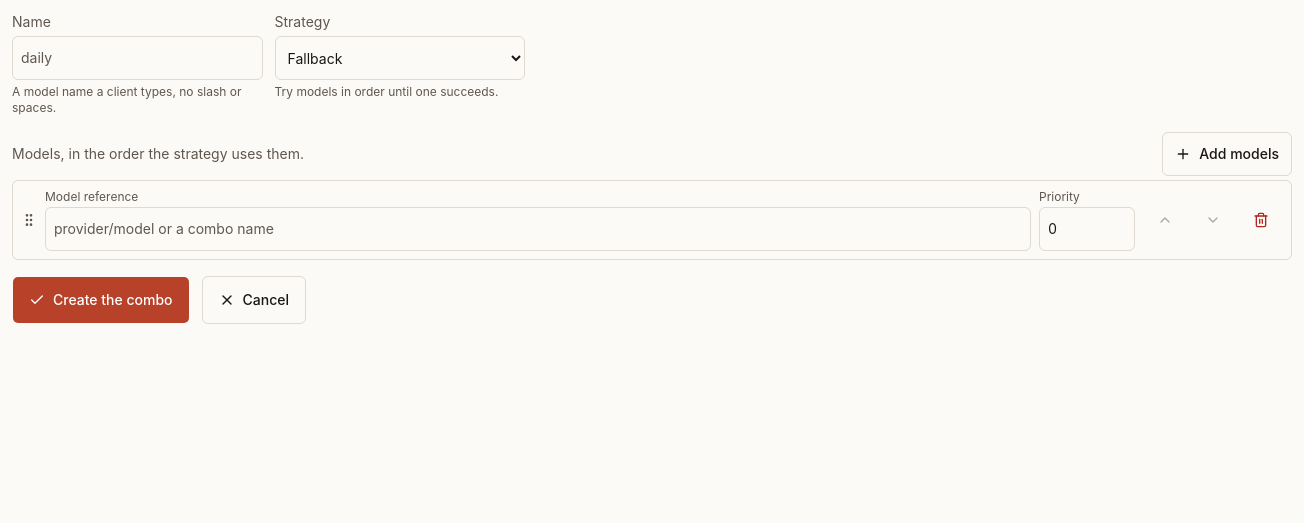
Test: ComboEditor strategy fields › refuses a round_robin combo with a sticky limit of zero and sends nothing
The image size is (1304, 523).
Type "mixed" into the field labelled "Name" at (137, 58), box [12,36,262,80]
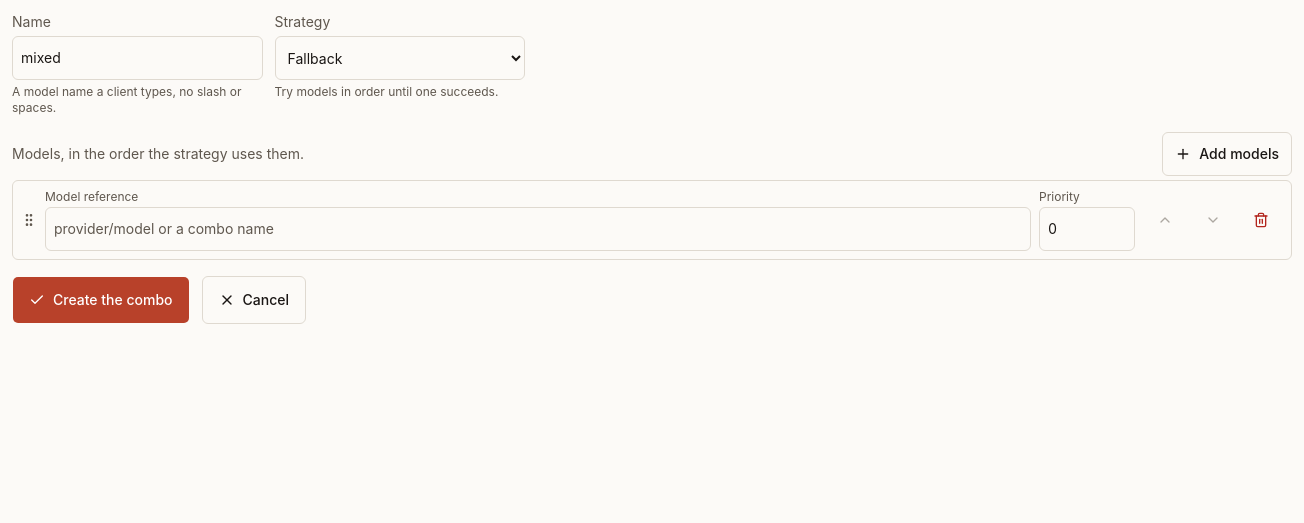
Select "Round robin" in the dropdown labelled "Strategy" at (400, 58), box [274,36,525,80]
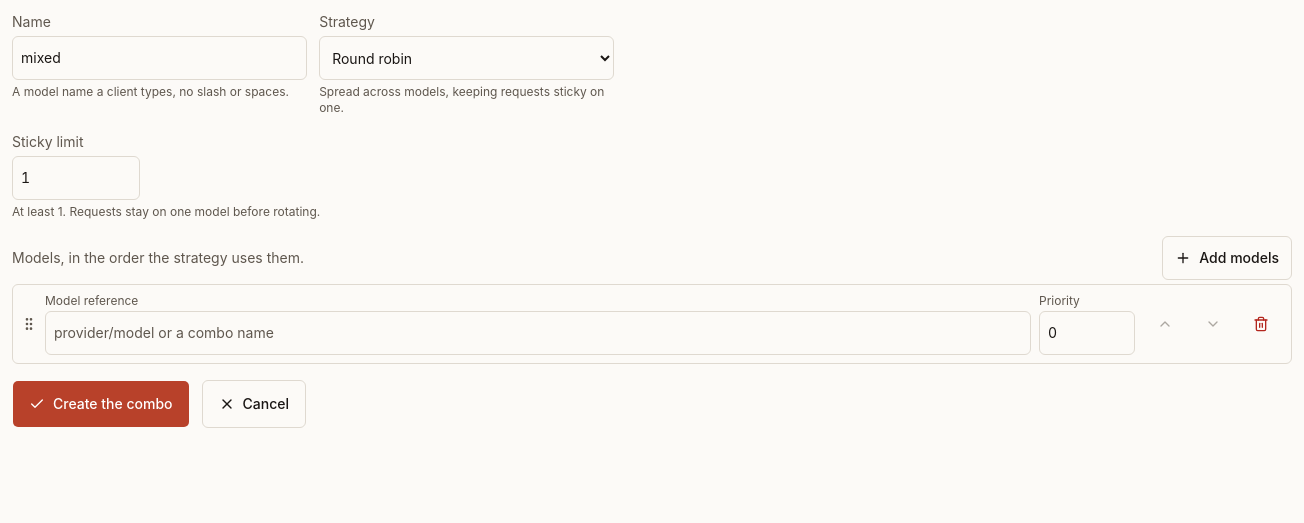
Replace the text in the number field labelled "Sticky limit" with "0" at (76, 178), box [12,156,140,200]
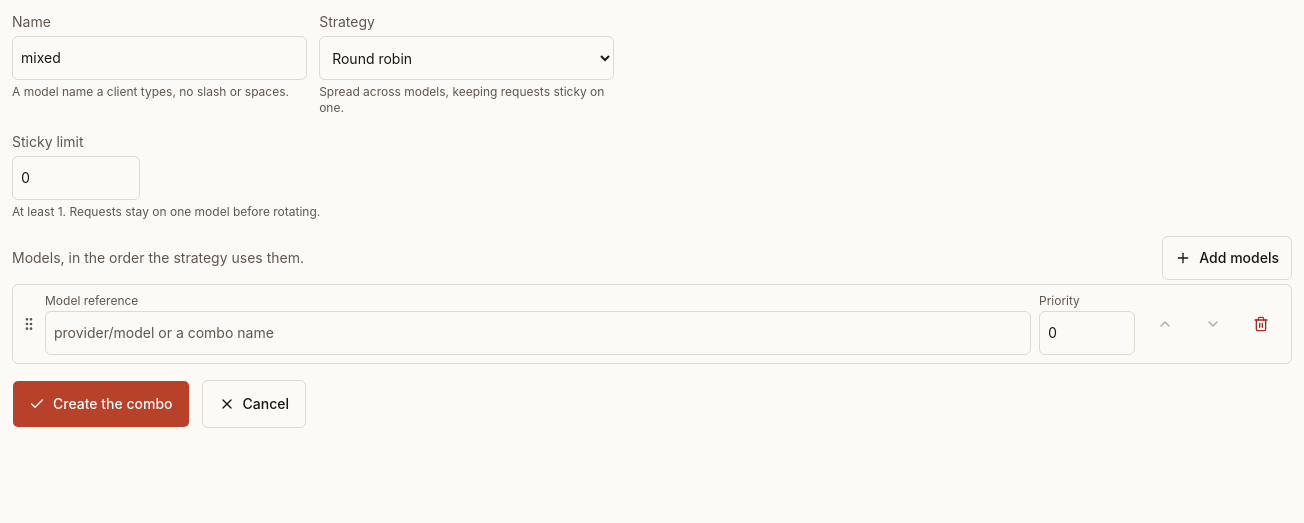
Click the button "Create the combo" at (101, 404), box [12,380,190,428]
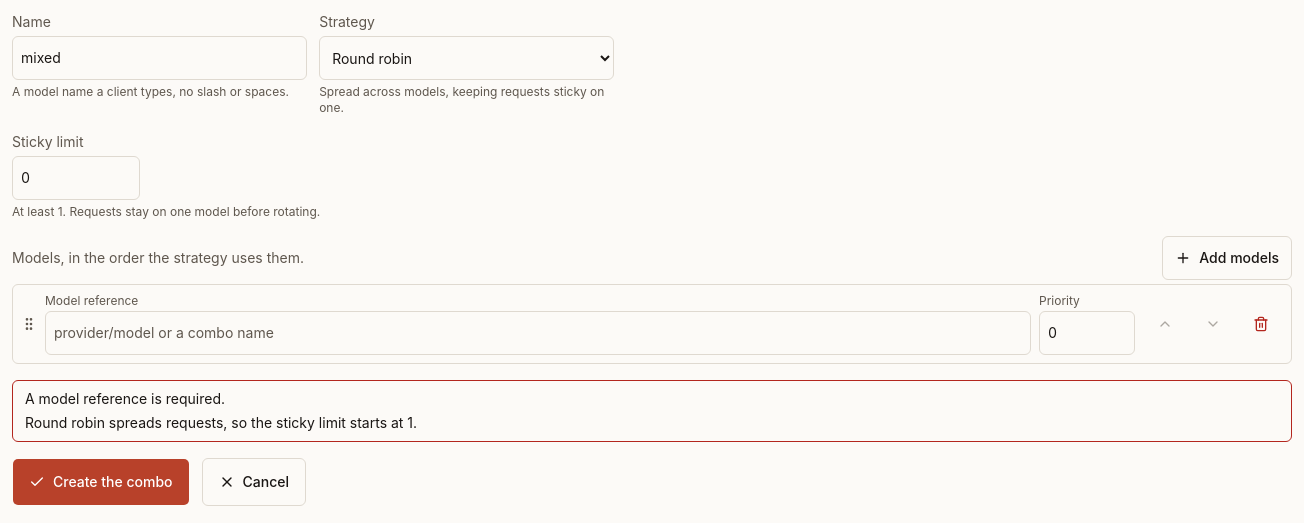
Result: the list item "sticky limit starts at 1" is shown at [25,414,417,431]
